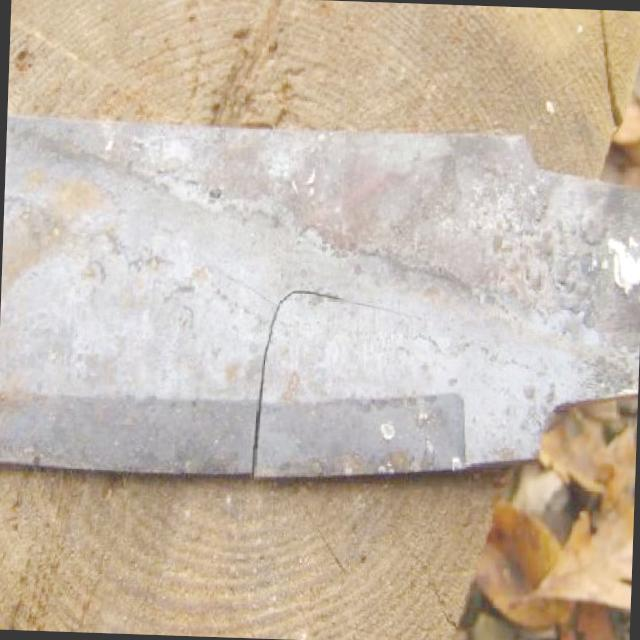crack: (244, 282, 417, 488)
